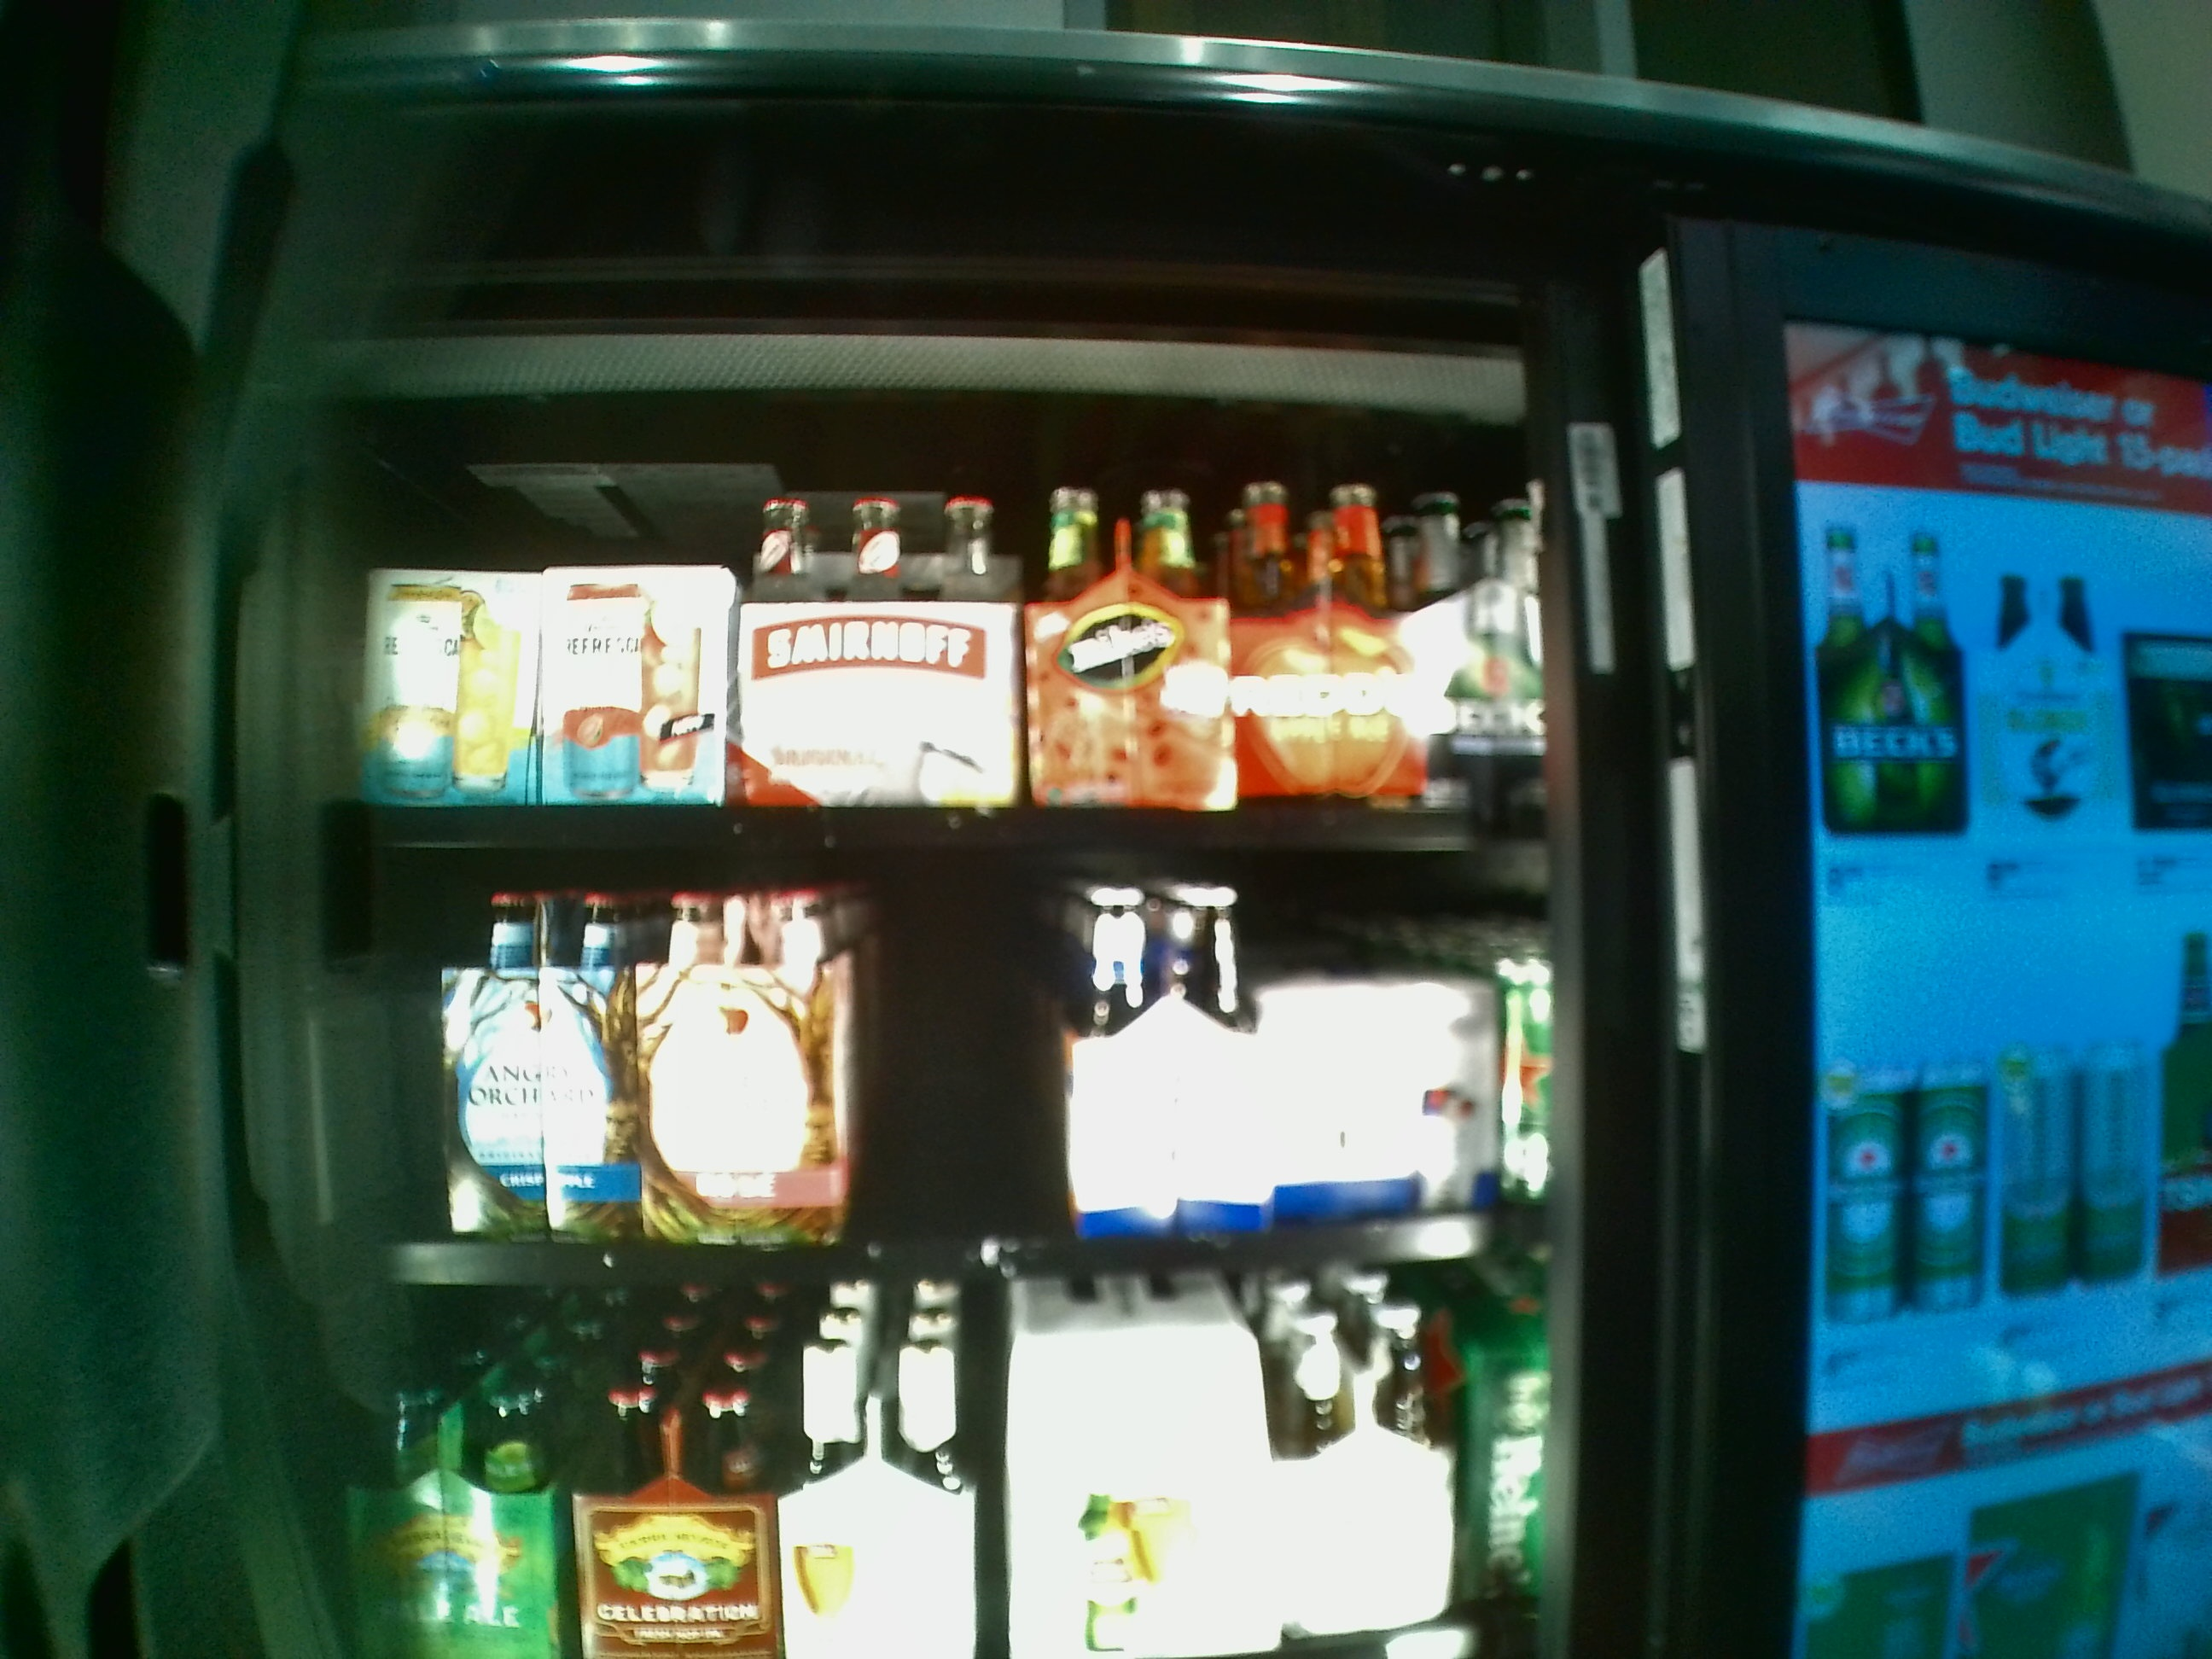shelf: (314, 413, 1548, 847), (326, 857, 1554, 1288)
